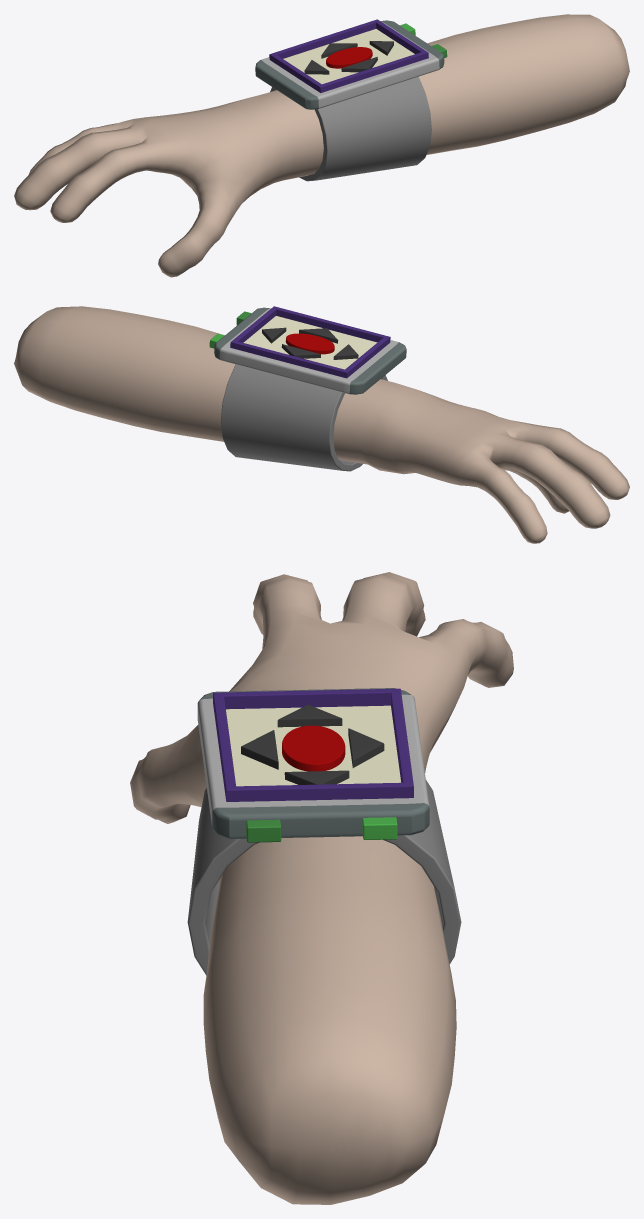
Rendered from Packboy_02.fbx.
3 renders of one model, top to bottom at view 1: azimuth 30°, elevation 25°; view 2: azimuth 150°, elevation 25°; view 3: azimuth 270°, elevation 25°, orthographic. The views are drawn at different scales.
Parts seen in each view (by area): view 1: AnatomyHandAlien:alienhand, packboy2, wristband; view 2: AnatomyHandAlien:alienhand, packboy2, wristband; view 3: AnatomyHandAlien:alienhand, packboy2, wristband.
Part boxes in pixels (x1,y1,x2,y2): AnatomyHandAlien:alienhand: (14,14,629,277); packboy2: (255,19,444,109); wristband: (270,76,431,181); AnatomyHandAlien:alienhand: (14,306,629,543); packboy2: (214,306,406,394); wristband: (220,364,387,471); AnatomyHandAlien:alienhand: (130,572,513,1204); packboy2: (197,688,429,839); wristband: (187,779,461,975).
Bounding box in the file's own units: 61.68 × 14.85 × 17.51.
